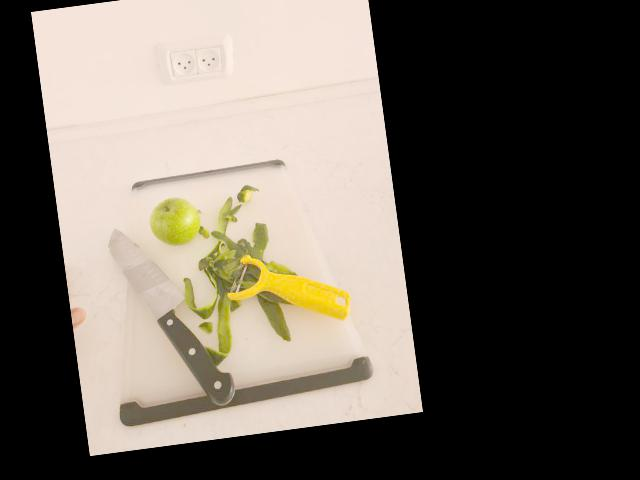apple: (151, 195, 201, 247)
